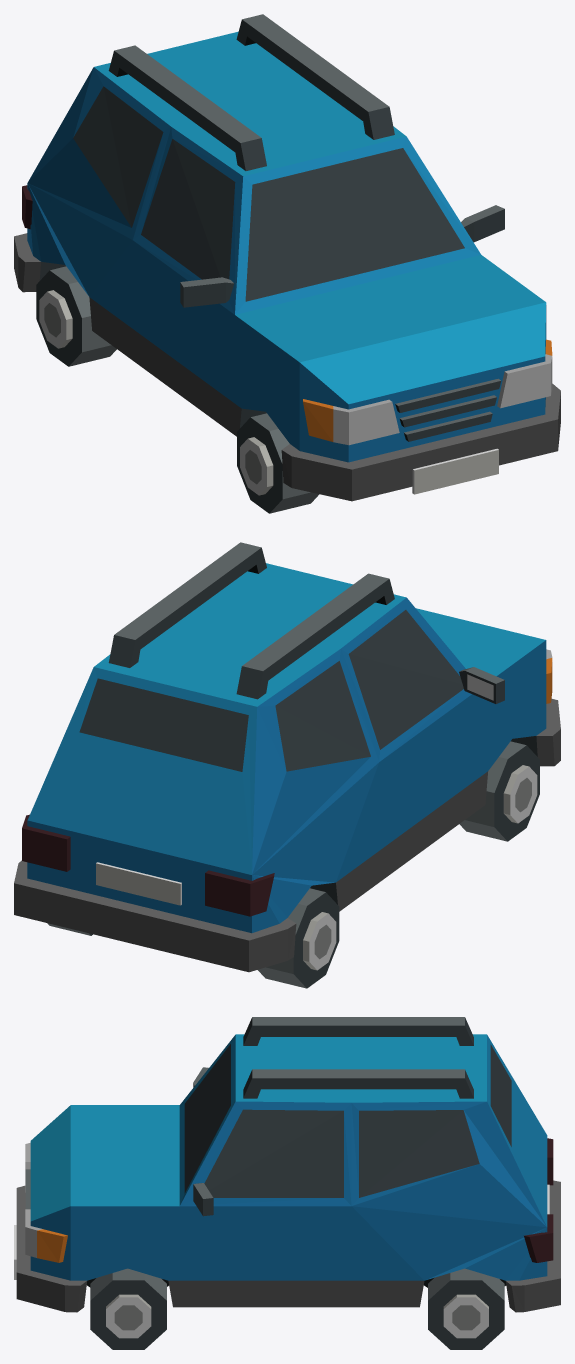
The model's file is TB_CITY_Car_SUV_A.FBX.
The picture shows the model from 3 angles, top to bottom: view 1: azimuth 30°, elevation 25°; view 2: azimuth 150°, elevation 25°; view 3: azimuth 270°, elevation 25°; orthographic projection. The views are drawn at different scales.
Parts seen in each view (by area): view 1: TB_CITY_Car_SUV_A, TB_Car_SUV_Wheel004, TB_Car_SUV_Wheel003; view 2: TB_CITY_Car_SUV_A, TB_Car_SUV_Wheel003, TB_Car_SUV_Wheel004; view 3: TB_CITY_Car_SUV_A, TB_Car_SUV_Wheel001, TB_Car_SUV_Wheel002.
Part boxes in pixels (x1,y1,x2,y2): TB_CITY_Car_SUV_A: (14, 14, 560, 501); TB_Car_SUV_Wheel004: (36, 266, 116, 366); TB_Car_SUV_Wheel003: (237, 413, 319, 513); TB_CITY_Car_SUV_A: (14, 542, 560, 972); TB_Car_SUV_Wheel003: (459, 741, 539, 841); TB_Car_SUV_Wheel004: (258, 888, 339, 988); TB_CITY_Car_SUV_A: (14, 1017, 560, 1312); TB_Car_SUV_Wheel001: (90, 1268, 166, 1349); TB_Car_SUV_Wheel002: (428, 1268, 504, 1349).
Bounding box in the file's own units: 4.12 × 3.64 × 7.23.
